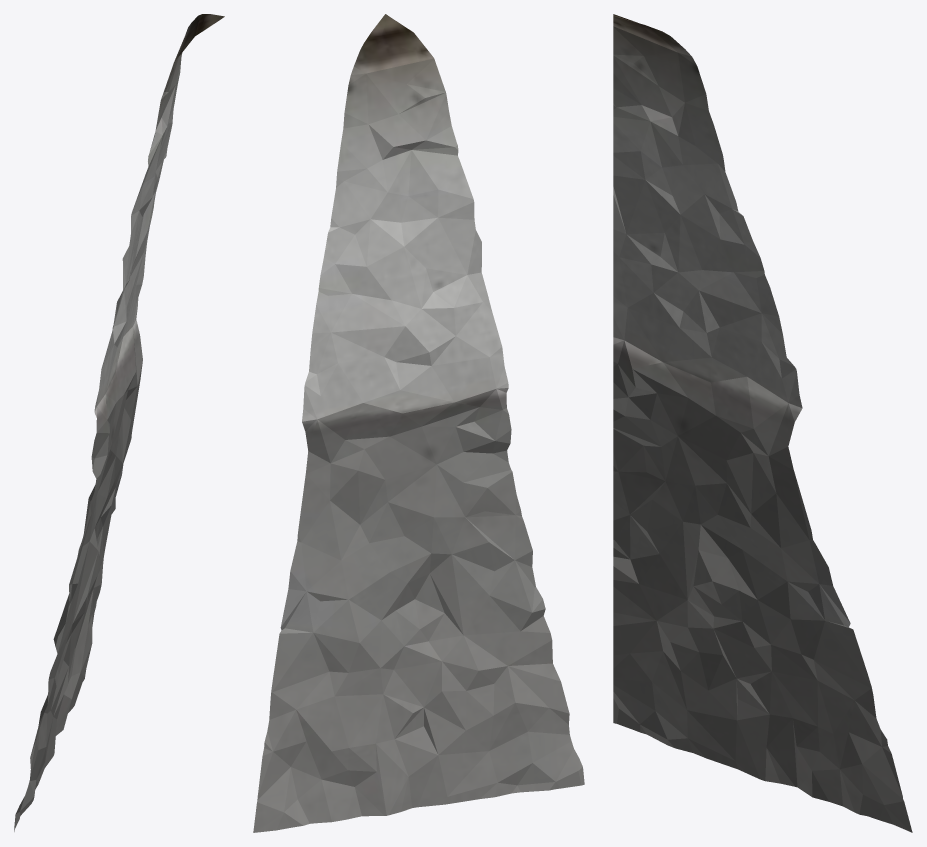
3 renders of one model, left to right at view 1: azimuth 30°, elevation 25°; view 2: azimuth 150°, elevation 25°; view 3: azimuth 270°, elevation 25°, orthographic. The views are drawn at different scales.
Bounding box in the file's own units: 0.2357 × 0.8167 × 0.2713.
1 material, 1 textured.
